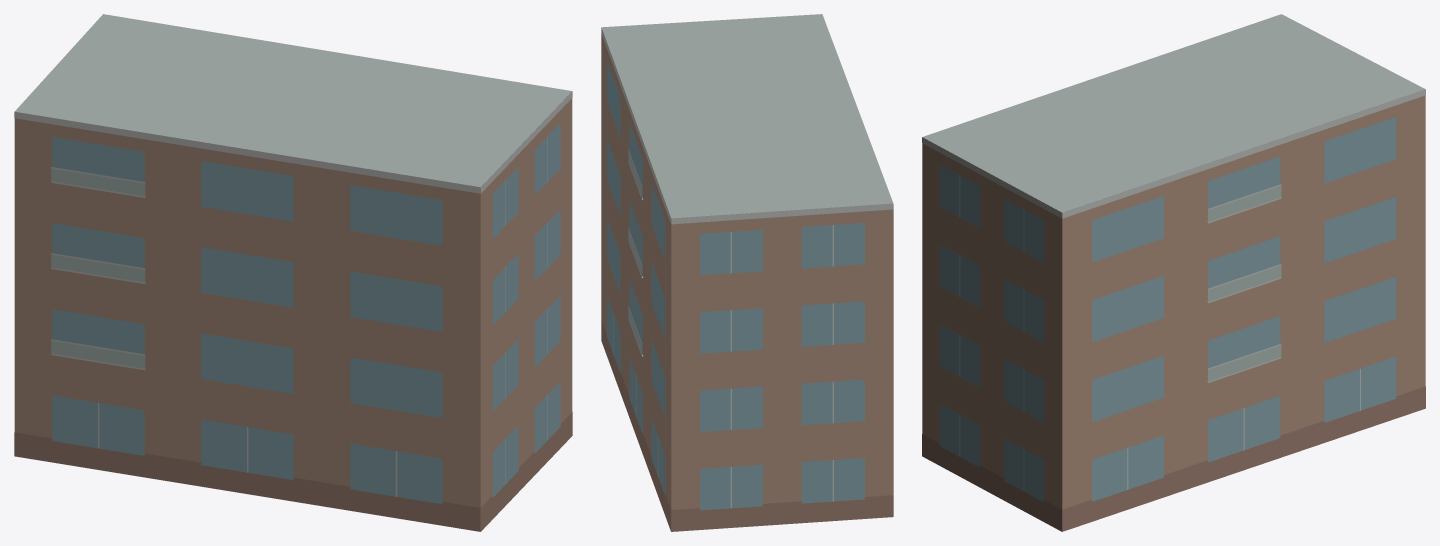
File: survey-upis-32767872.glb
3 views of the same model, side by side, from view 1: azimuth 30°, elevation 25°; view 2: azimuth 150°, elevation 25°; view 3: azimuth 270°, elevation 25° (orthographic). The views are drawn at different scales.
Parts seen in each view (by area): view 1: survey-upis-32767872.tmp; view 2: survey-upis-32767872.tmp; view 3: survey-upis-32767872.tmp.
Boxes of the visible parts, x1,y1,x2,y2 form: survey-upis-32767872.tmp: (14, 14, 572, 531); survey-upis-32767872.tmp: (601, 14, 893, 531); survey-upis-32767872.tmp: (922, 14, 1425, 531).
Size of the model in its own units: 17.23 by 12.9 by 18.46.
